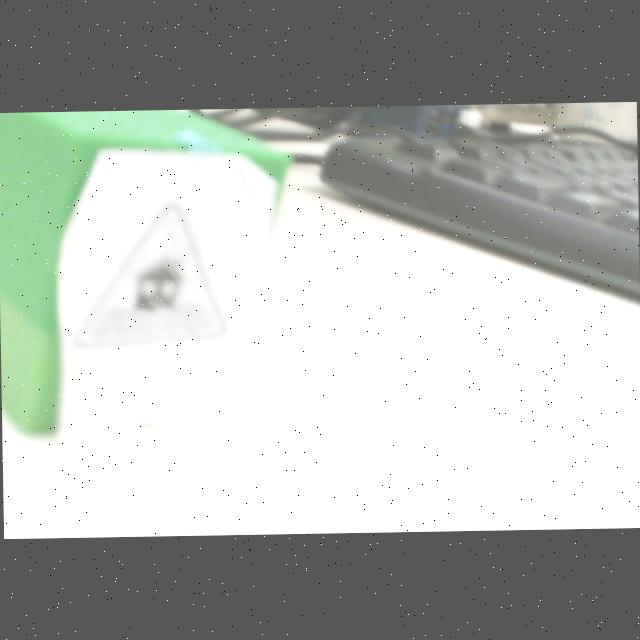Tsunami: (74, 202, 225, 347)
